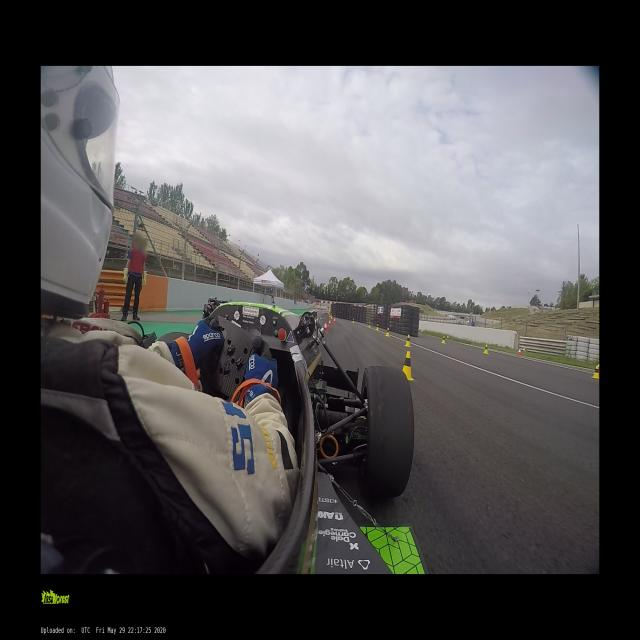orange_cone: (516, 348, 522, 357), (327, 319, 332, 328), (324, 322, 328, 333), (333, 318, 336, 324), (330, 316, 332, 322)
yellow_cone: (404, 352, 414, 379), (590, 364, 599, 380), (404, 334, 412, 348), (482, 344, 488, 355), (441, 336, 445, 344), (386, 328, 390, 336), (376, 324, 379, 330), (351, 318, 354, 324), (368, 321, 370, 327)
